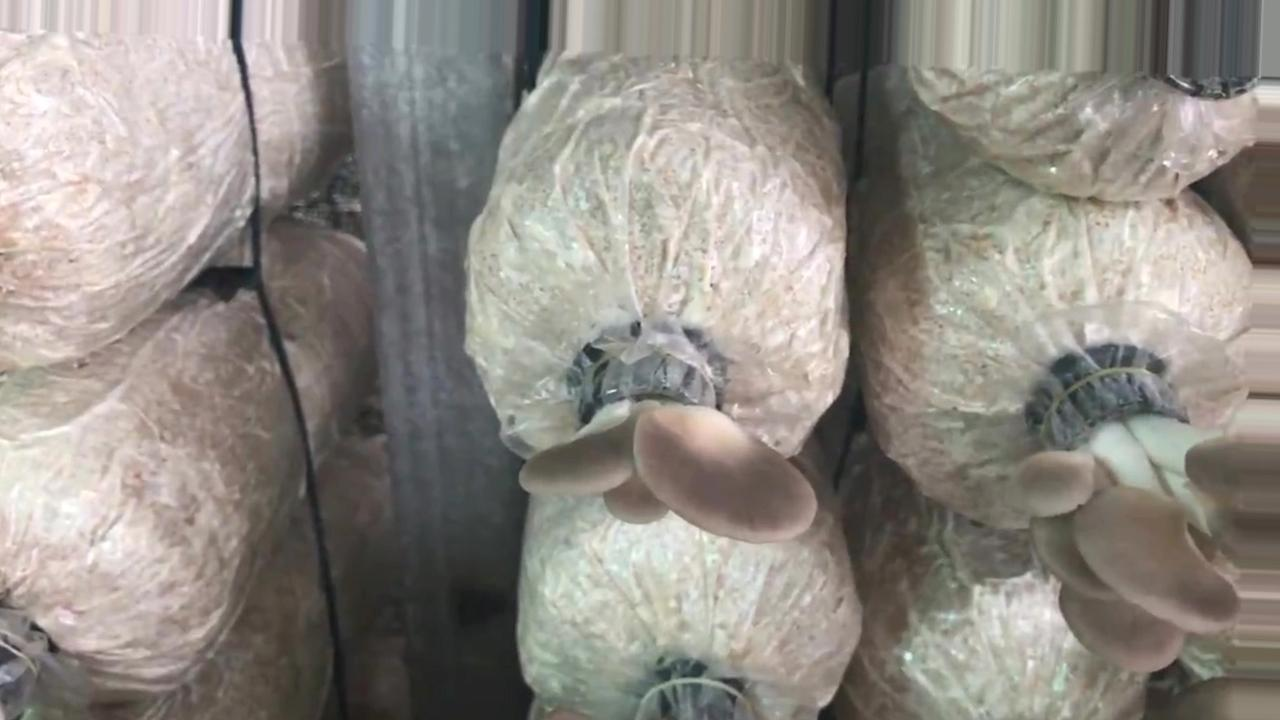nam: (1038, 360, 1280, 652), (524, 345, 809, 548)
